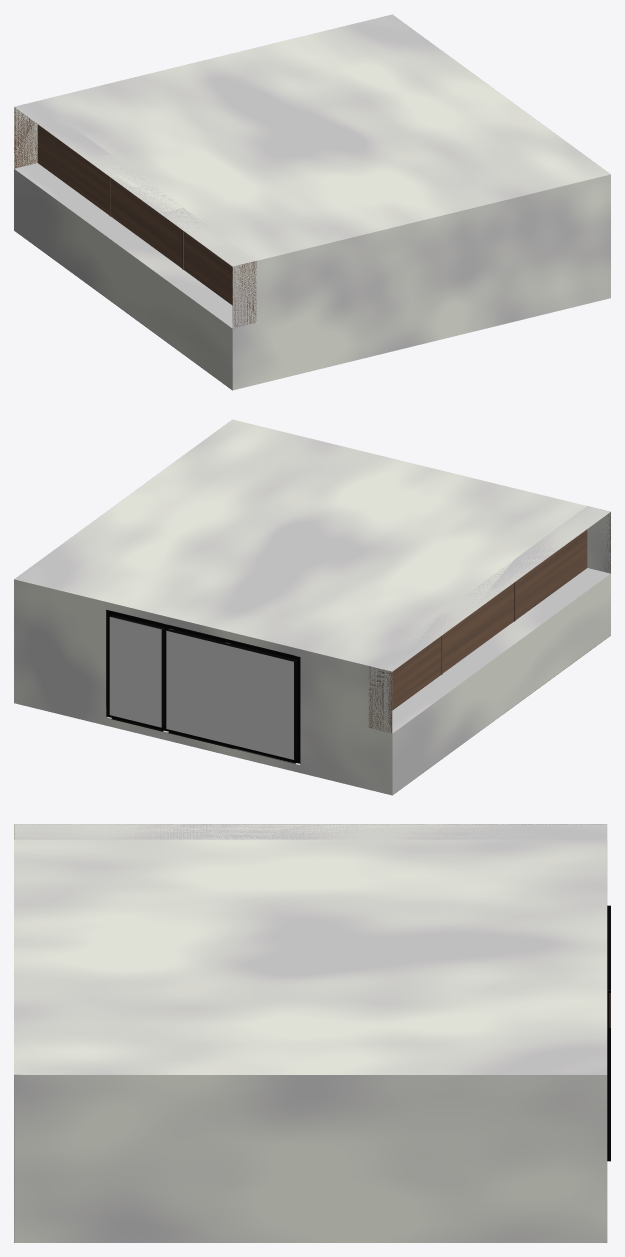
Rendered from HotelRoom1.fbx.
3 renders of one model, top to bottom at view 1: azimuth 30°, elevation 25°; view 2: azimuth 150°, elevation 25°; view 3: azimuth 270°, elevation 25°, orthographic. The views are drawn at different scales.
Visible parts, largest first — view 1: 平面; view 2: 平面; view 3: 平面.
Part boxes in pixels (bbox=[...]): 平面: bbox=[14, 14, 610, 390]; 平面: bbox=[14, 419, 610, 795]; 平面: bbox=[14, 824, 610, 1242].
Bounding box in the file's own units: 800 × 250 × 805.
Materials: 4 (3 with a texture image).
